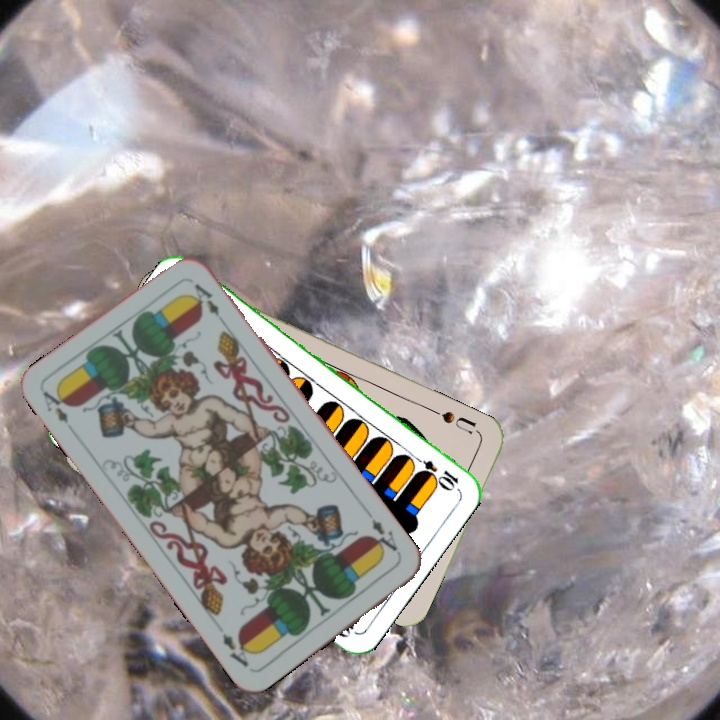E10: (407, 450, 462, 492)
EA: (364, 515, 404, 559), (38, 385, 73, 427)
SU: (428, 405, 479, 437)
